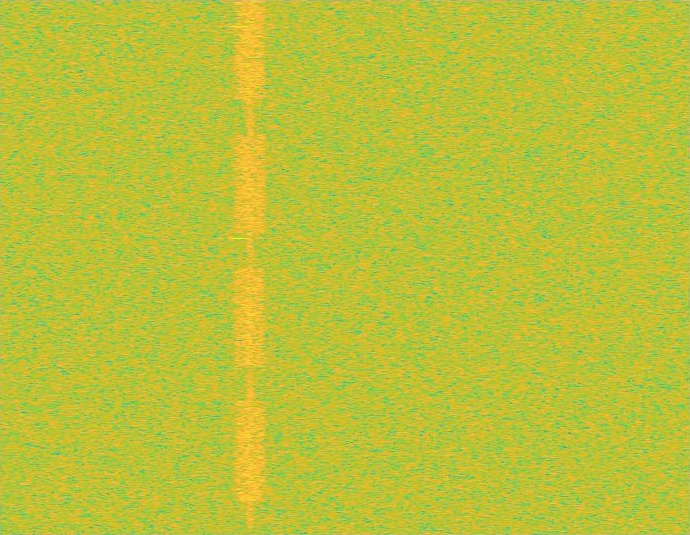5G: (233, 0, 267, 534)
DSSS: (246, 0, 254, 534)
Radar: (233, 0, 247, 534)
